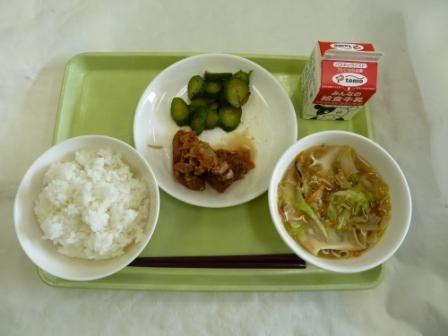Meat: (156, 127, 260, 202)
Milk: (293, 34, 389, 129)
Rice: (13, 141, 149, 277)
Salad: (164, 67, 252, 131)
Soups: (270, 134, 402, 268)
